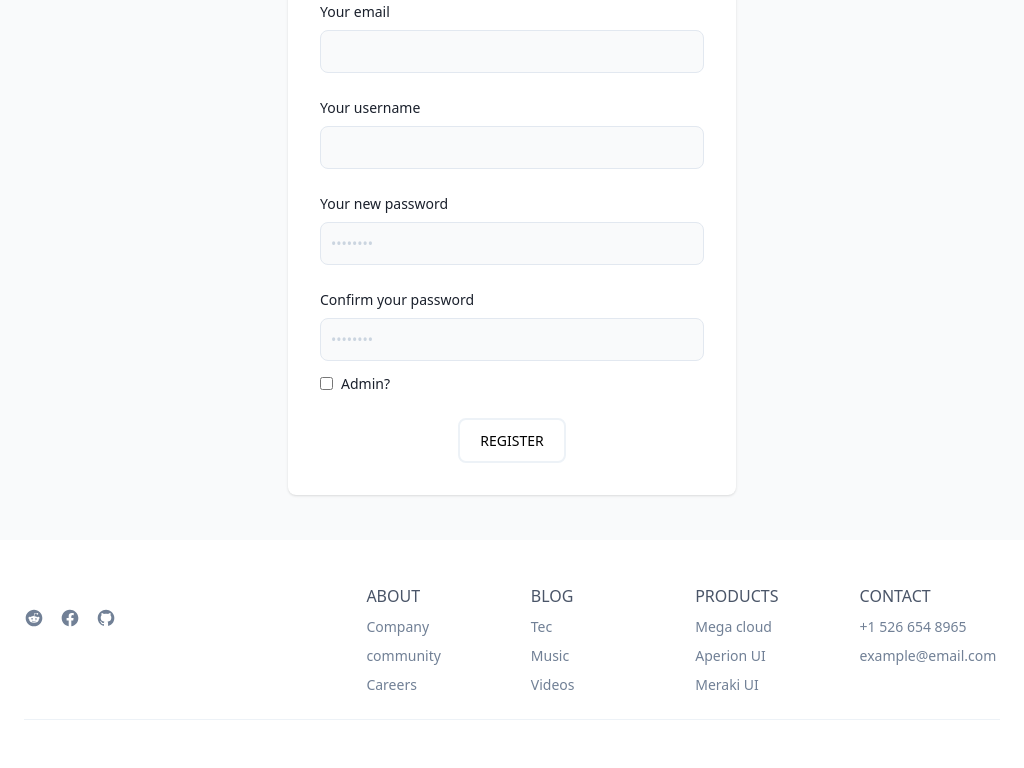
Scenario: RegisterForm › Exibe mensagens de erro ao enviar o formulário vazio
This screenshot has width=1024, height=768.
(page scrolled)
Click the submit button: (512, 441) left=458, top=418, right=565, bottom=463
(page scrolled)
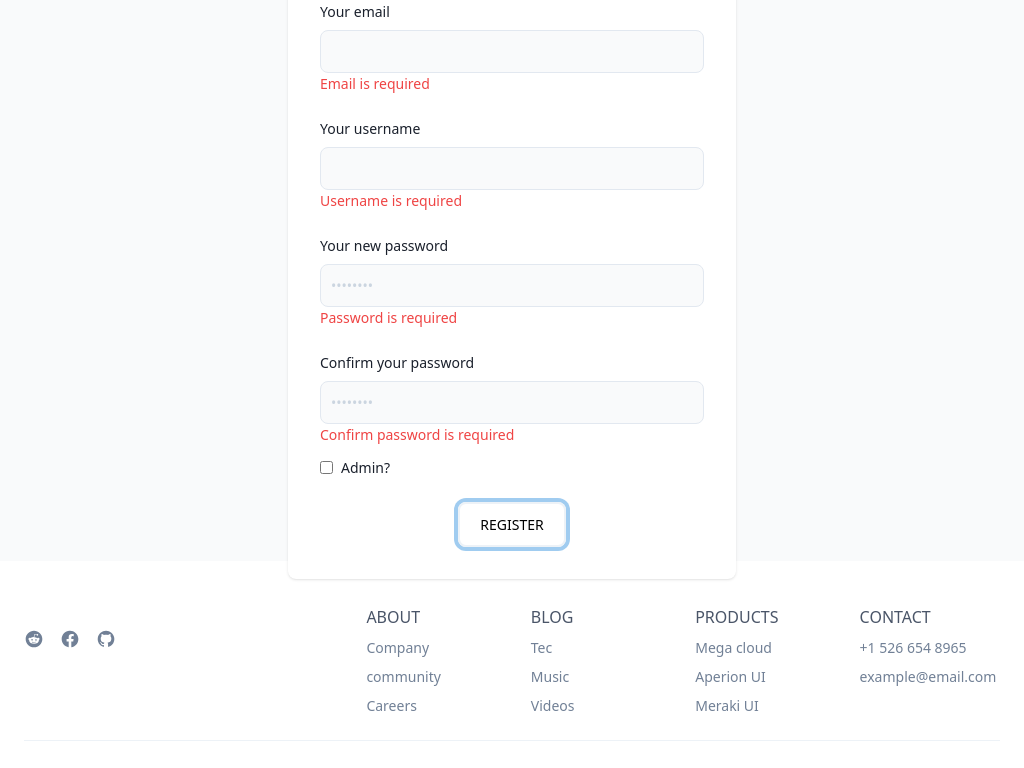
Now the text "Username is required" is shown, box left=320, top=191, right=462, bottom=210
Now the text "Email is required" is shown, box left=320, top=74, right=430, bottom=93
Now the text "Password is required" is shown, box left=320, top=308, right=457, bottom=327
